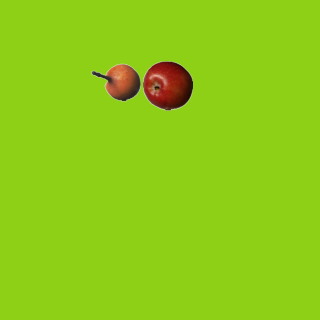Apple Braeburn: (142, 60, 192, 110)
Granadilla: (90, 57, 140, 107)
